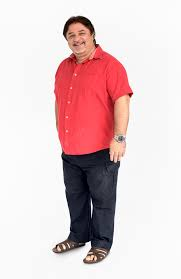person: (42, 14, 136, 269)
